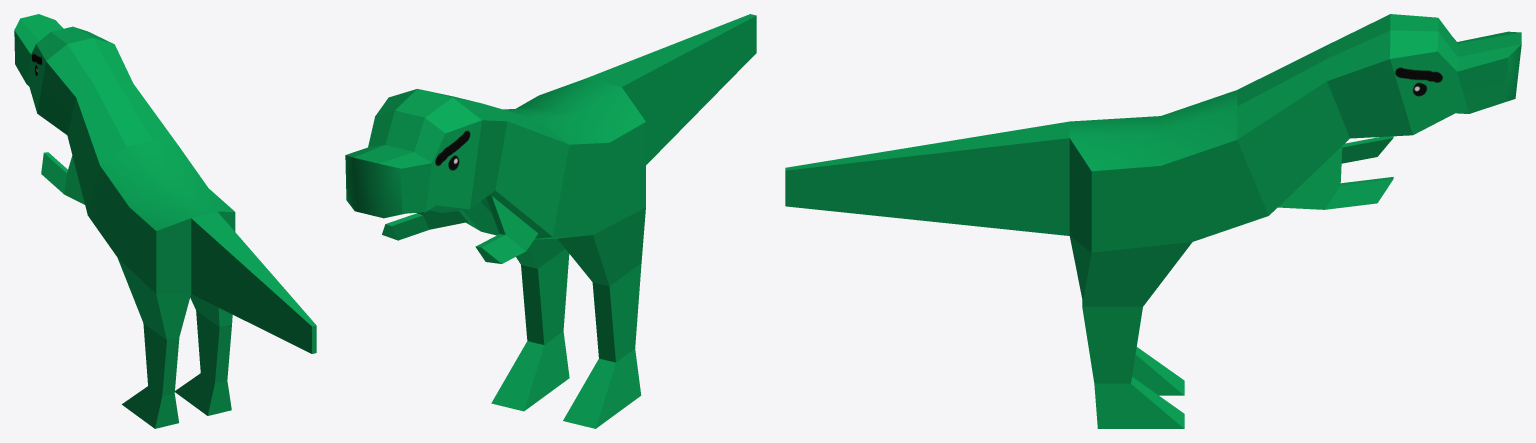
Rendered from T-Rex.FBX.
3 views of the same model, side by side, from view 1: azimuth 30°, elevation 25°; view 2: azimuth 150°, elevation 25°; view 3: azimuth 270°, elevation 25° (orthographic). The views are drawn at different scales.
Visible parts, largest first — view 1: Box001; view 2: Box001; view 3: Box001.
Boxes of the visible parts, <box> form: Box001: <box>14,14,316,428</box>; Box001: <box>345,14,756,428</box>; Box001: <box>785,14,1521,428</box>.
Size of the model in its own units: 3.42 by 10.95 by 19.12.
1 material, 1 textured.
